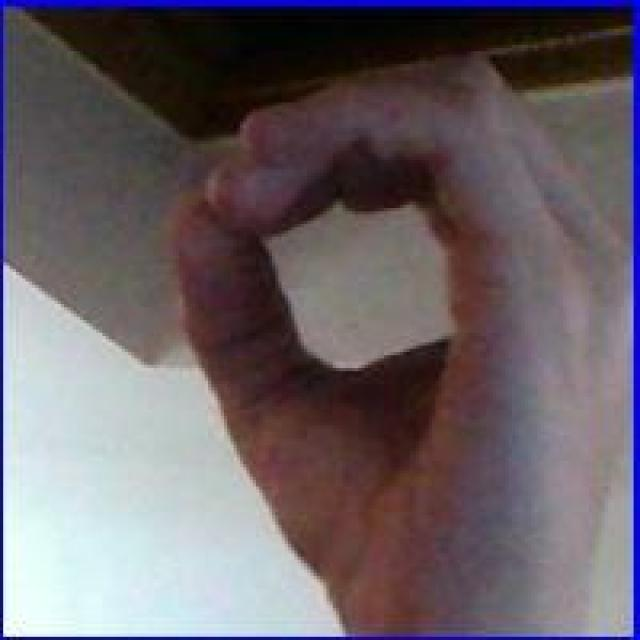O: (157, 48, 621, 618)
